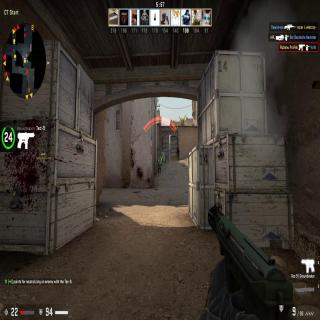CT-Body: (158, 159, 162, 171)
CT-Head: (158, 160, 160, 162)
